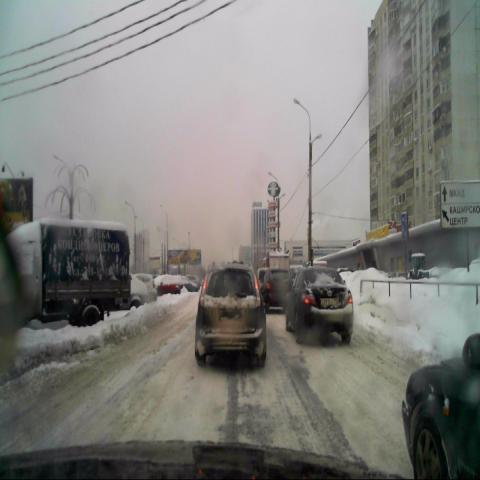5_21: (400, 212, 408, 241)
